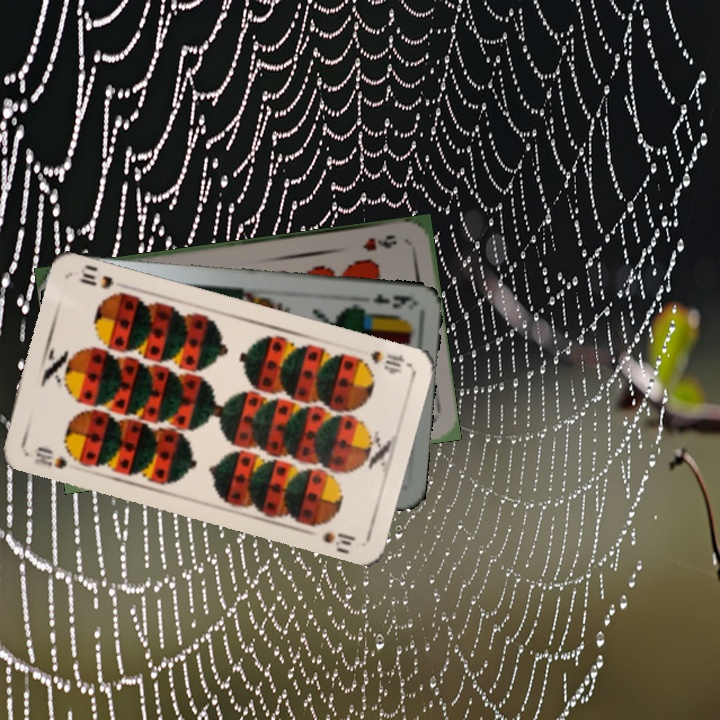EK: (368, 290, 417, 311)
H9: (359, 230, 400, 254)
S10: (365, 346, 411, 376), (29, 442, 70, 471)
